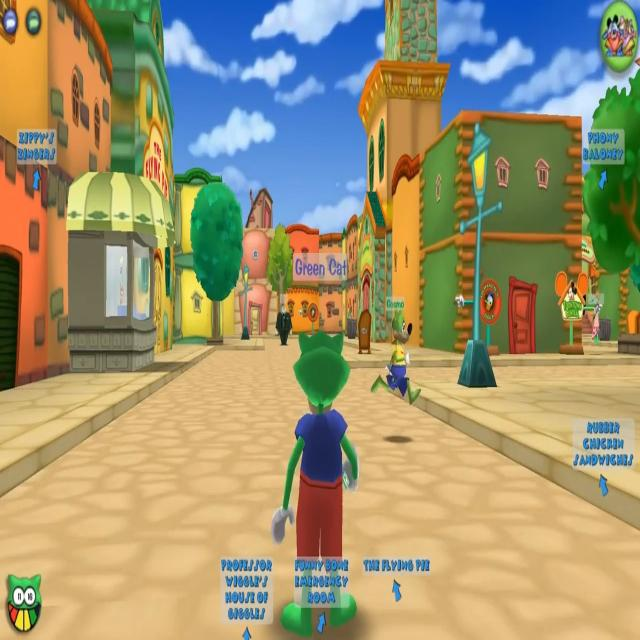tightwad: (275, 291, 296, 345)
